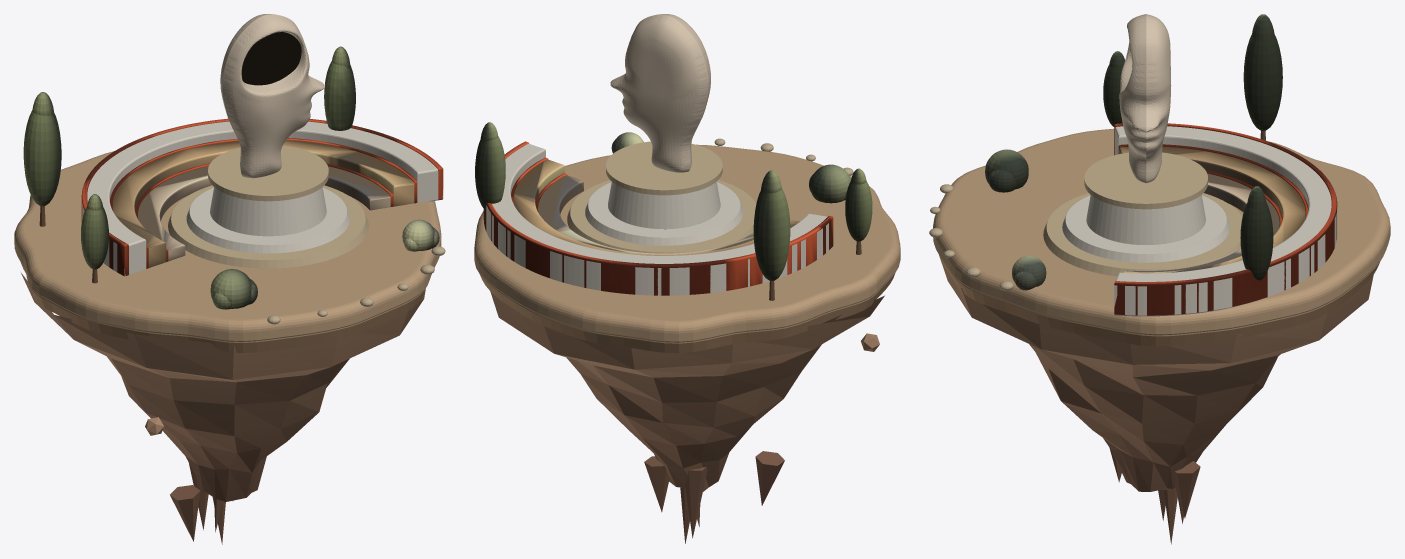
Rendered from baked-0.glb.
3 renders of one model, left to right at view 1: azimuth 30°, elevation 25°; view 2: azimuth 150°, elevation 25°; view 3: azimuth 270°, elevation 25°, orthographic. The views are drawn at different scales.
Visible parts, largest first — view 1: lm.001, vl.001; view 2: lm.001, vl.001; view 3: lm.001, vl.001.
Boxes of the visible parts, x1,y1,x2,y2 form: lm.001: (14, 14, 445, 544); vl.001: (23, 32, 443, 309); lm.001: (474, 14, 900, 543); vl.001: (475, 122, 872, 295); lm.001: (929, 14, 1390, 544); vl.001: (985, 14, 1337, 315).
Bounding box in the file's own units: 14.51 × 18.97 × 14.58.
